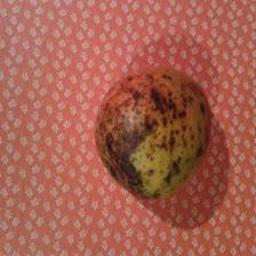Mango Rotten: (88, 60, 223, 203)
